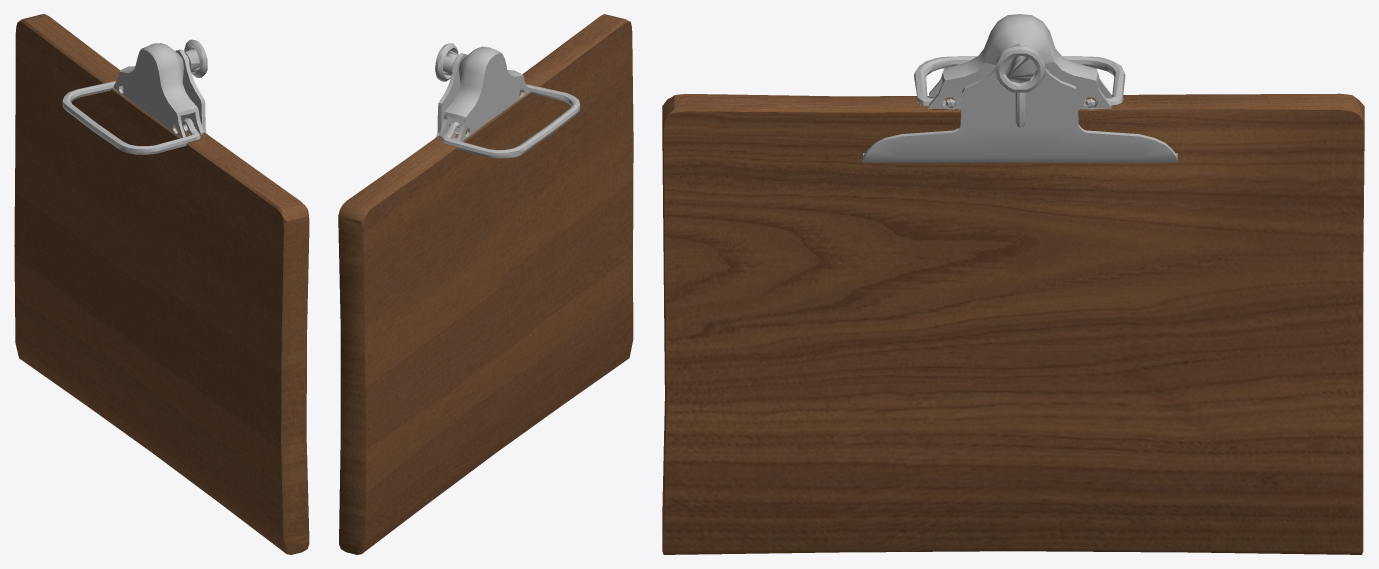
Rendered from file_unity_fbx.fbx.
3 renders of one model, left to right at view 1: azimuth 30°, elevation 25°; view 2: azimuth 150°, elevation 25°; view 3: azimuth 270°, elevation 25°, orthographic. The views are drawn at different scales.
Parts seen in each view (by area): view 1: file; view 2: file; view 3: file.
Part boxes in pixels (<box>): file: <box>14,14,309,554</box>; file: <box>338,14,633,554</box>; file: <box>662,14,1364,554</box>.
Size of the model in its own units: 23.24 by 83.4 by 99.8.
